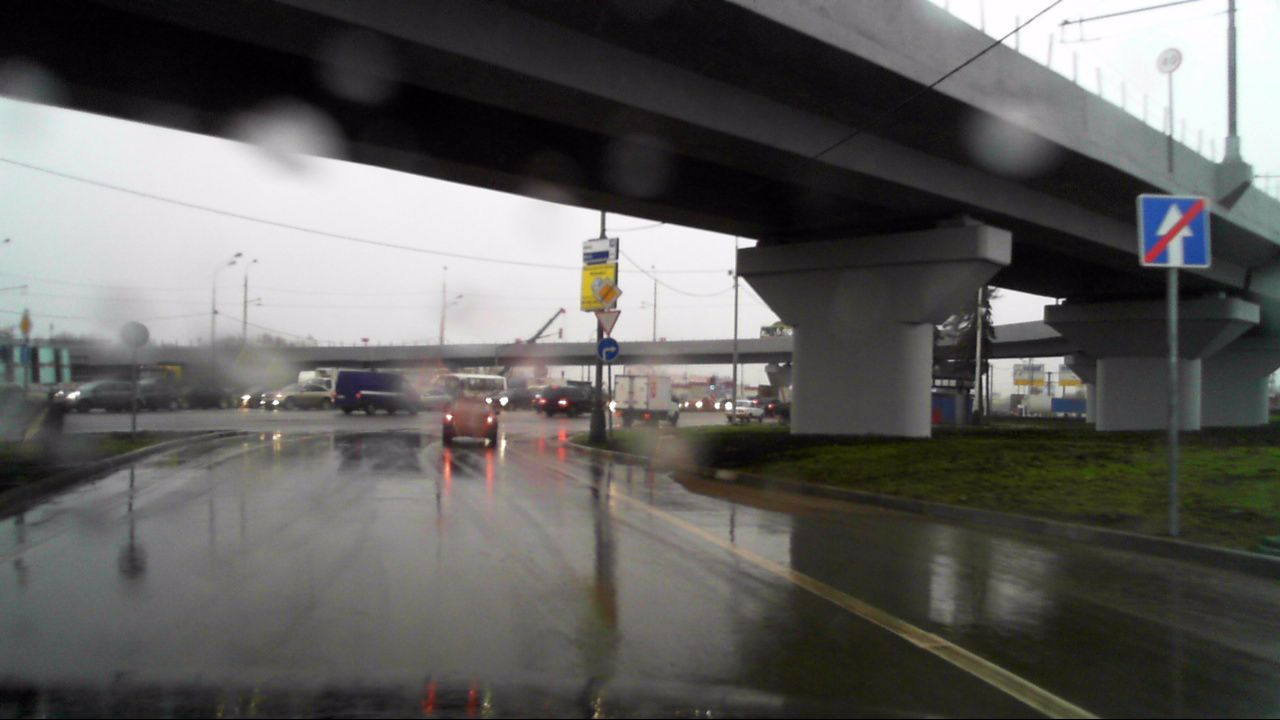main road: (594, 277, 622, 307)
